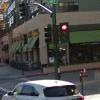Traffic light: (38, 11, 77, 47)
